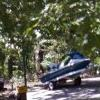Boat: (36, 53, 88, 84)
